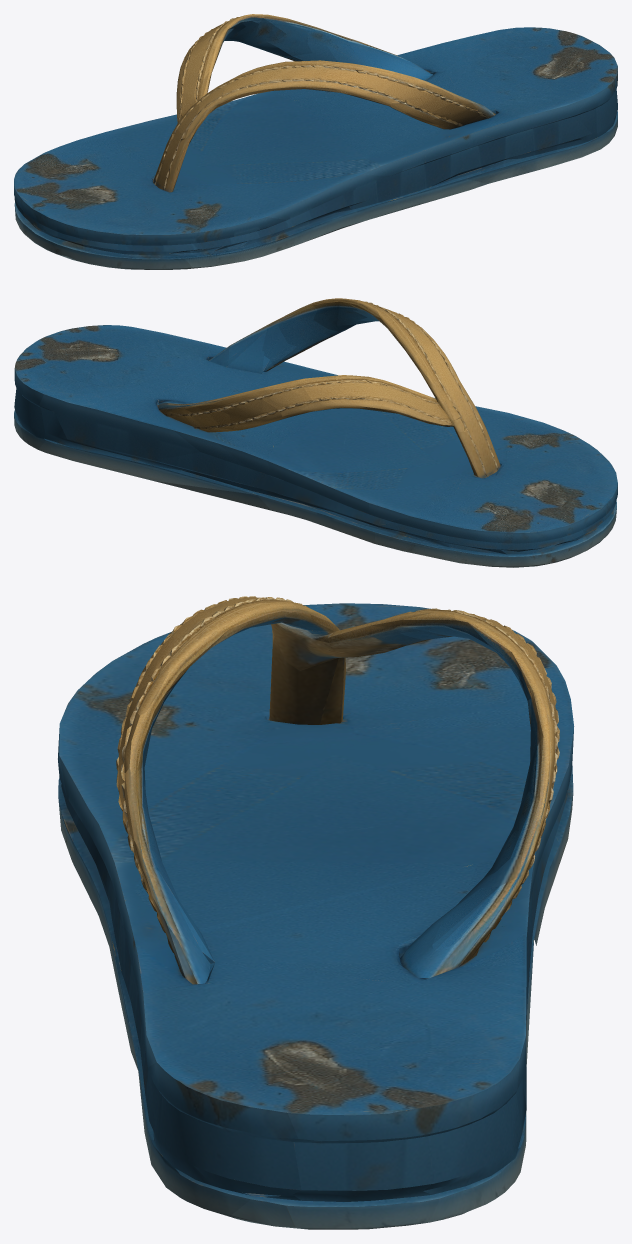
The model's file is ciabatta.glb.
The picture shows the model from 3 angles, top to bottom: view 1: azimuth 30°, elevation 25°; view 2: azimuth 150°, elevation 25°; view 3: azimuth 270°, elevation 25°; orthographic projection. The views are drawn at different scales.
Size of the model in its own units: 1.9 by 0.4677 by 0.7453.
Materials: 1 (1 with a texture image).
